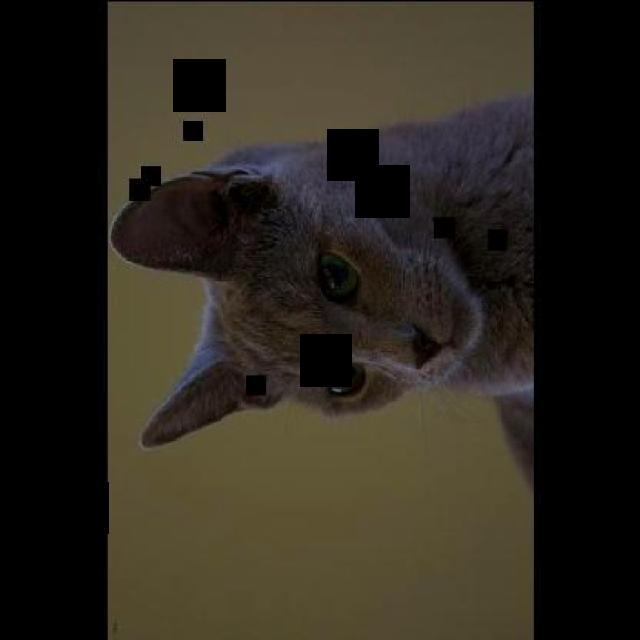unauthorized: (109, 91, 534, 486)
